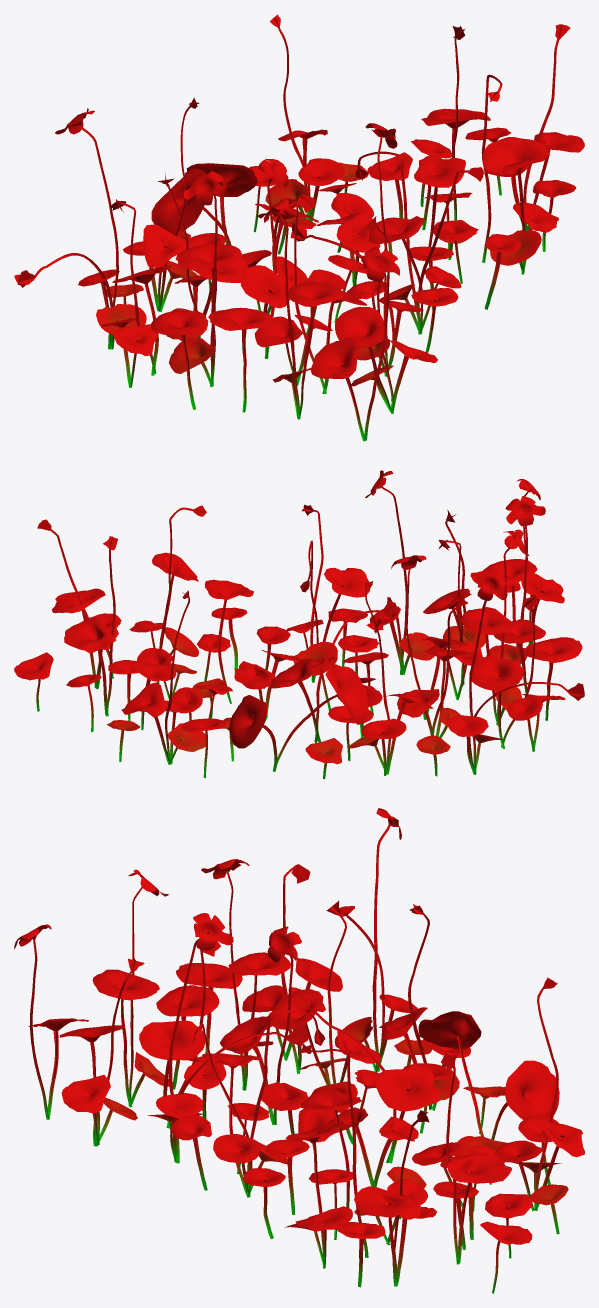
Rendered from Native Violet_LOD0_Var6_ultkcfeja.fbx.
3 renders of one model, top to bottom at view 1: azimuth 30°, elevation 25°; view 2: azimuth 150°, elevation 25°; view 3: azimuth 270°, elevation 25°, orthographic. The views are drawn at different scales.
Visible parts, largest first — view 1: _ra88_Var6_LOD0; view 2: _ra88_Var6_LOD0; view 3: _ra88_Var6_LOD0.
Part boxes in pixels (x1=…): _ra88_Var6_LOD0: x1=14, y1=14, x2=584, y2=441; _ra88_Var6_LOD0: x1=14, y1=470, x2=584, y2=778; _ra88_Var6_LOD0: x1=14, y1=808, x2=584, y2=1293.
Size of the model in its own units: 61.51 by 24.38 by 49.74.
